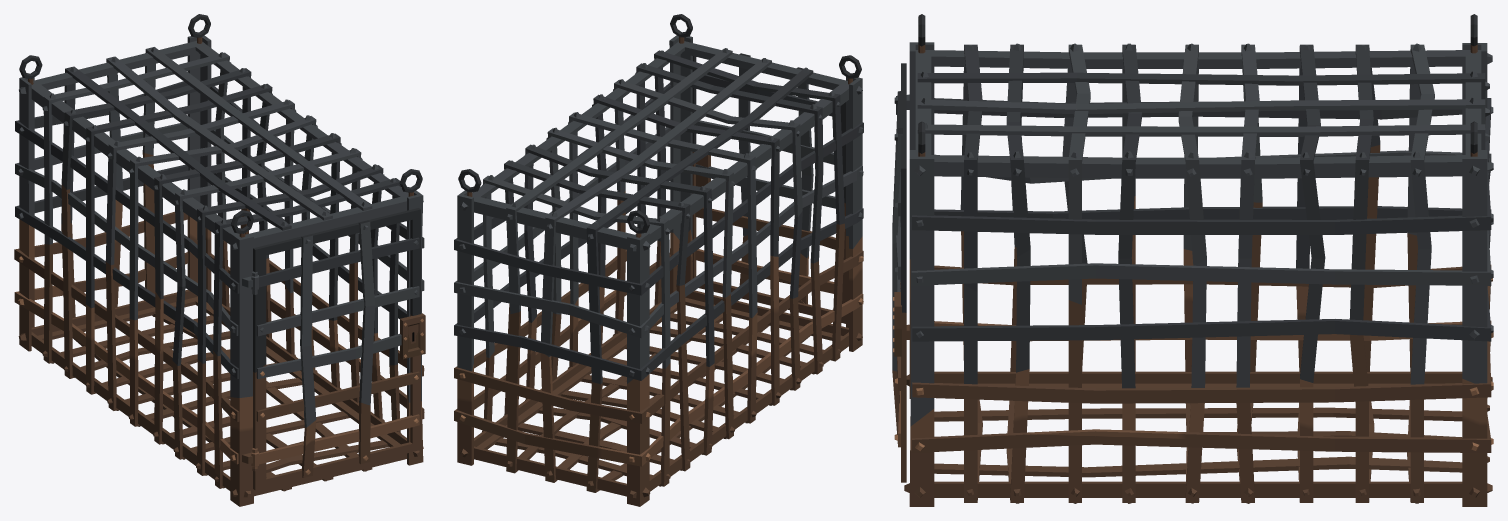
Rendered from crypt_cage_l.gltf.
The picture shows the model from 3 angles, left to right: view 1: azimuth 30°, elevation 25°; view 2: azimuth 150°, elevation 25°; view 3: azimuth 270°, elevation 25°; orthographic projection. The views are drawn at different scales.
Visible parts, largest first — view 1: crypt_cage_l; view 2: crypt_cage_l; view 3: crypt_cage_l.
Part boxes in pixels (x1,y1,x2,y2): crypt_cage_l: [14, 14, 425, 506]; crypt_cage_l: [454, 14, 863, 506]; crypt_cage_l: [892, 14, 1493, 506].
Size of the model in its own units: 1.53 by 2.23 by 3.19.
1 material, 1 textured.
